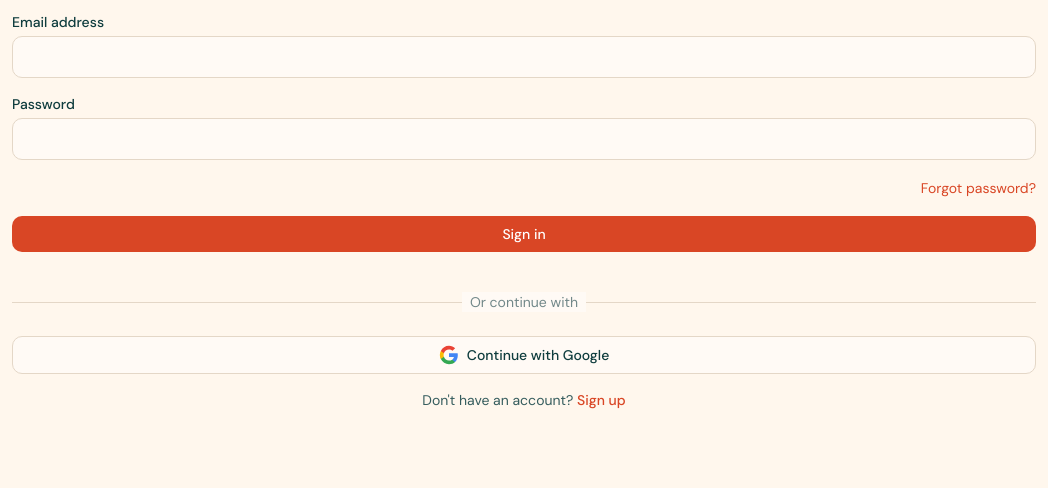
components/auth/LoginForm › shows error for unverified email
Type "test@example.com" into the field labelled "Email address".
click(524, 57); type("test@example.com")  # box x1=12 y1=36 x2=1036 y2=78
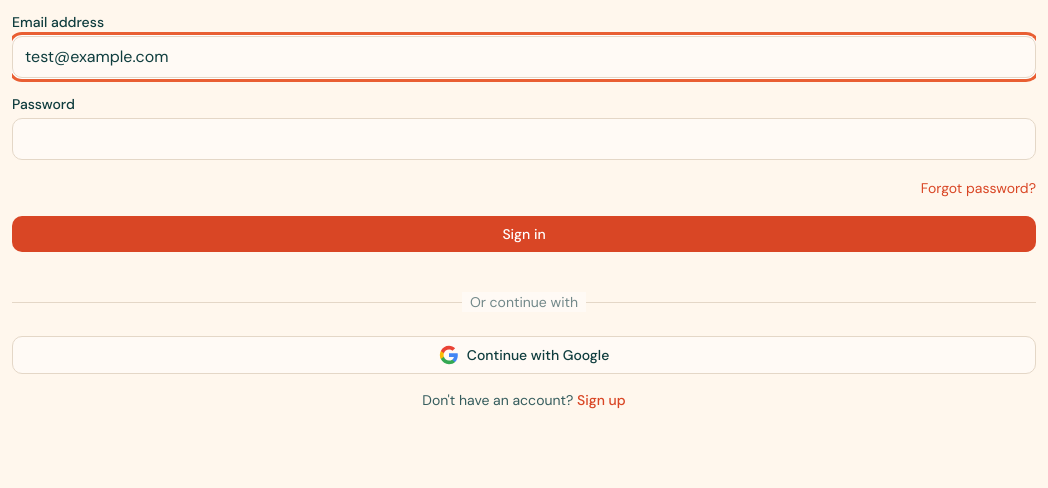
Type "Password1" into the password field labelled "Password".
click(524, 139); type("Password1")  # box x1=12 y1=118 x2=1036 y2=160
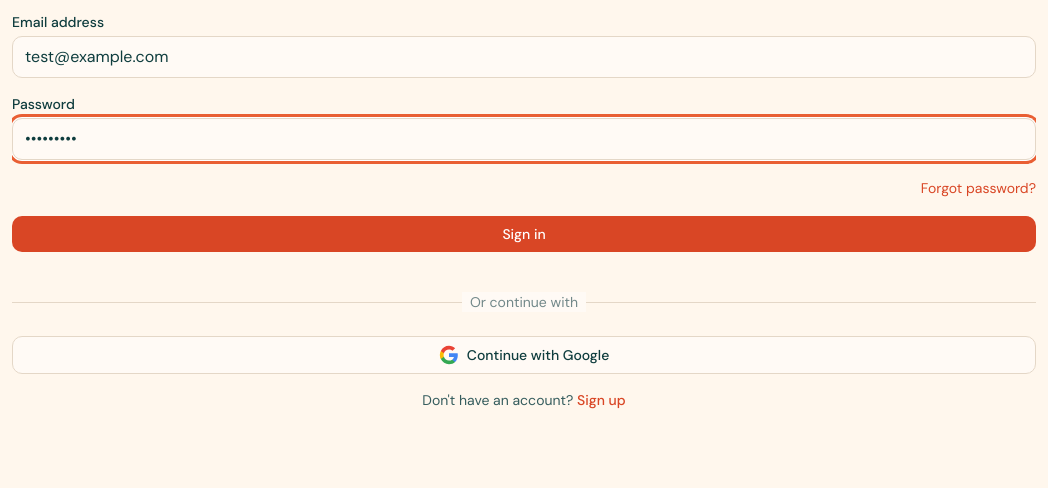
Click the button "Sign in".
click(524, 234)  # box x1=12 y1=216 x2=1036 y2=252
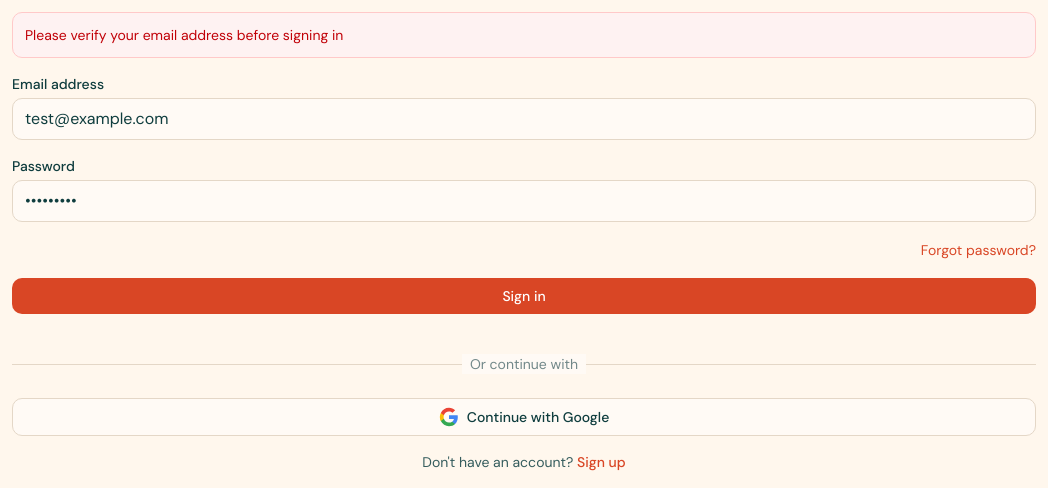
Expected: the message reads "Please verify your email address before signing in", x1=25 y1=26 x2=343 y2=44
